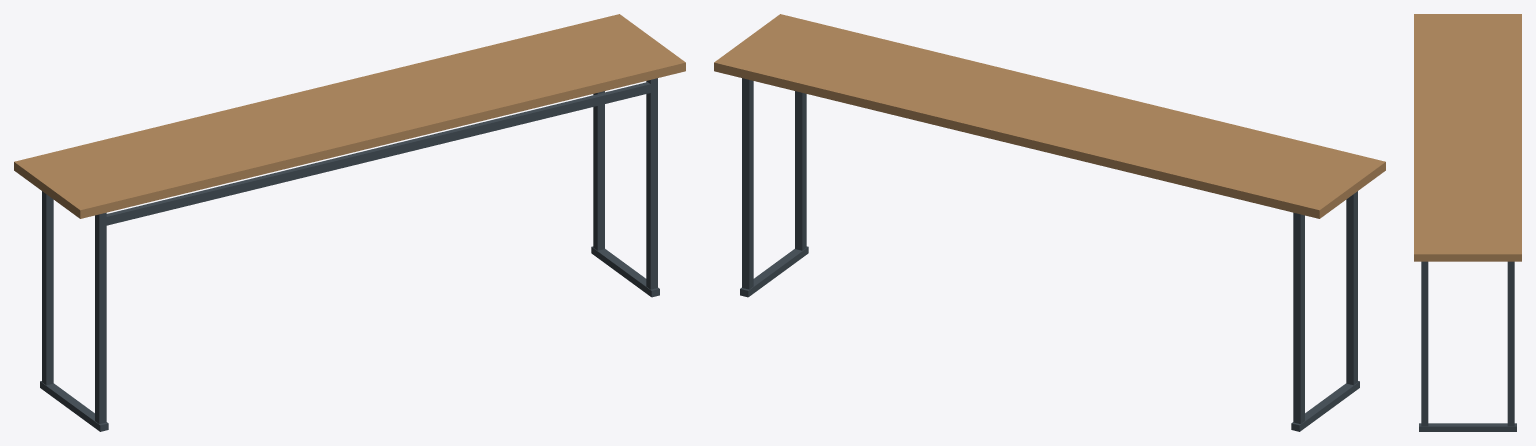
File: windowBar-1.glb
3 views of the same model, side by side, from view 1: azimuth 30°, elevation 25°; view 2: azimuth 150°, elevation 25°; view 3: azimuth 270°, elevation 25° (orthographic). The views are drawn at different scales.
Visible parts, largest first — view 1: windowBar:1:editor; view 2: windowBar:1:editor; view 3: windowBar:1:editor.
Boxes of the visible parts, <box> form: windowBar:1:editor: <box>14,14,685,431</box>; windowBar:1:editor: <box>714,14,1385,431</box>; windowBar:1:editor: <box>1414,14,1521,431</box>.
Bounding box in the file's own units: 2.9 × 1.05 × 0.55.
